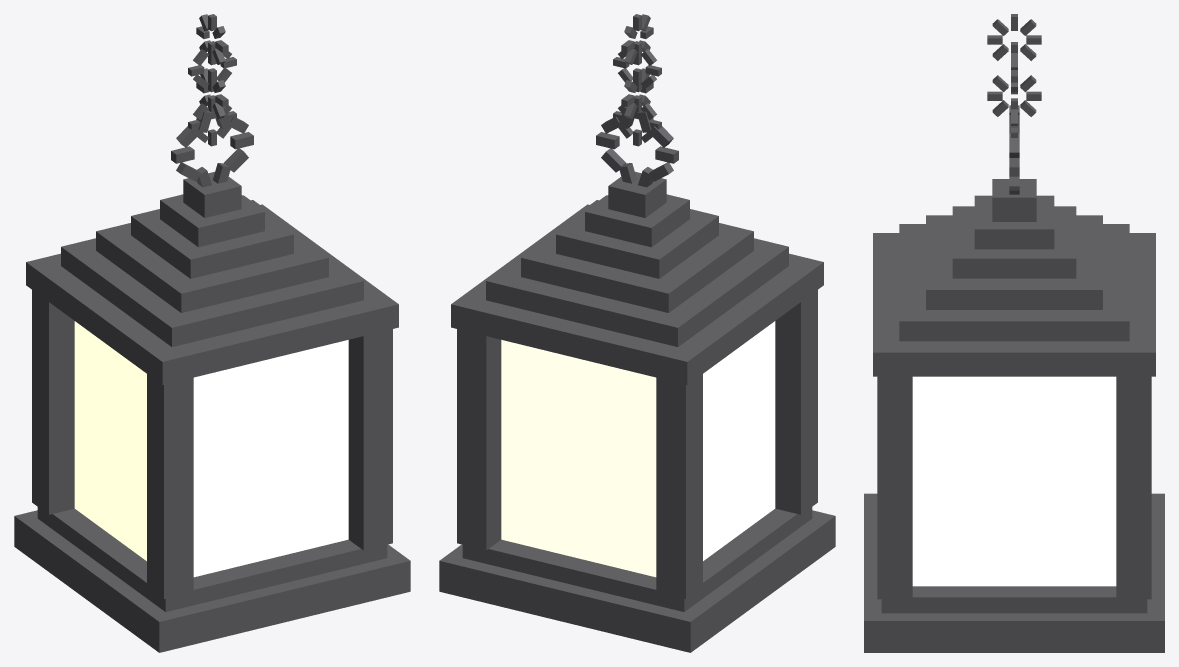
The model's file is lantern_hung.gltf.
3 renders of one model, left to right at view 1: azimuth 30°, elevation 25°; view 2: azimuth 150°, elevation 25°; view 3: azimuth 270°, elevation 25°, orthographic. The views are drawn at different scales.
Parts seen in each view (by area): view 1: lantern_hung; view 2: lantern_hung; view 3: lantern_hung.
Boxes of the visible parts, left/top/right/bottom form: lantern_hung: left=14, top=14, right=410, bottom=652; lantern_hung: left=439, top=14, right=835, bottom=652; lantern_hung: left=864, top=14, right=1164, bottom=652.
Size of the model in its own units: 0.34 by 0.7156 by 0.34.
